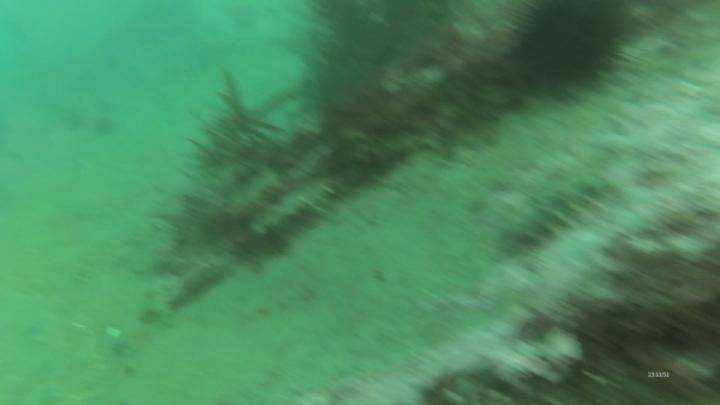echinus: (504, 1, 636, 101)
holothurian: (495, 171, 615, 258)
